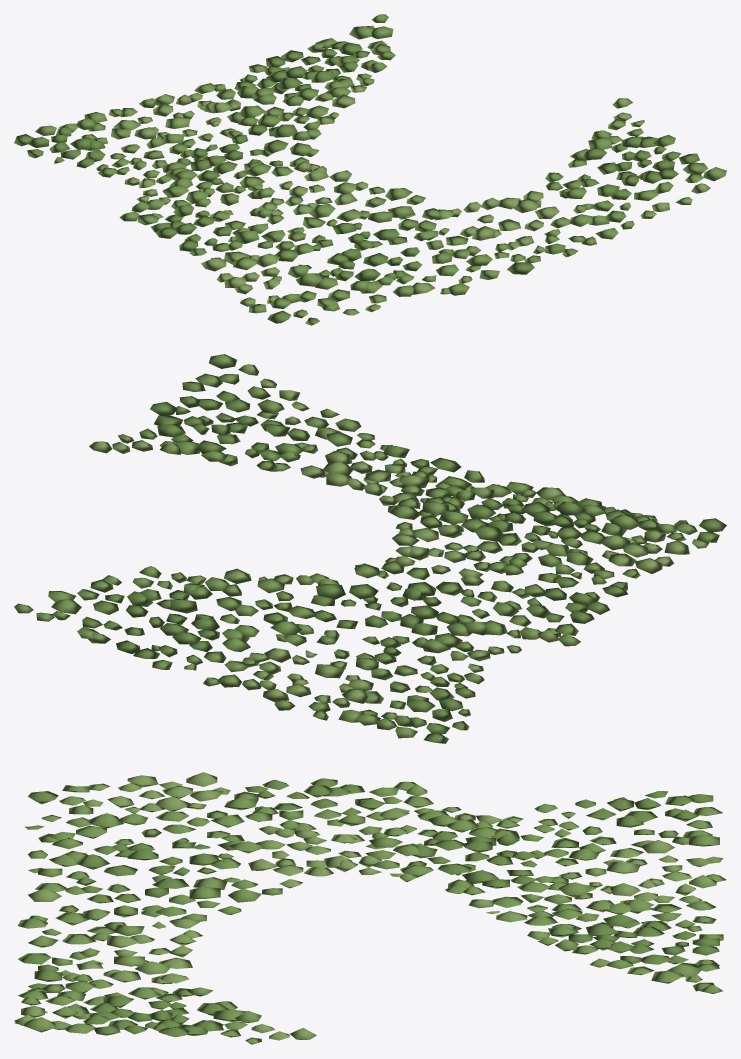
The model's file is canopy-1--4-3.glb.
The picture shows the model from 3 angles, top to bottom: view 1: azimuth 30°, elevation 25°; view 2: azimuth 150°, elevation 25°; view 3: azimuth 270°, elevation 25°; orthographic projection. The views are drawn at different scales.
Size of the model in its own units: 518 by 62.5 by 518.
Materials: 1 (1 with a texture image).
